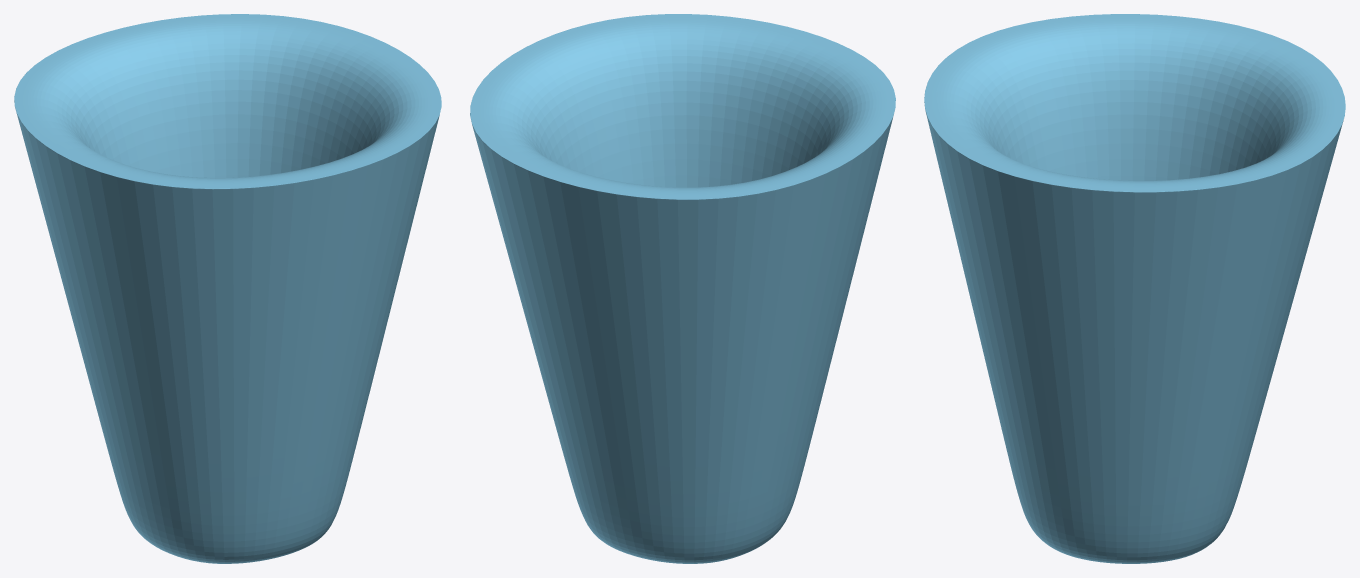
Rendered from assets crema vaso.fbx.
3 views of the same model, side by side, from view 1: azimuth 30°, elevation 25°; view 2: azimuth 150°, elevation 25°; view 3: azimuth 270°, elevation 25° (orthographic).
Parts seen in each view (by area): view 1: Cube; view 2: Cube; view 3: Cube.
Part boxes in pixels (x1,y1,x2,y2): Cube: (14, 14, 441, 563); Cube: (470, 14, 895, 563); Cube: (924, 14, 1345, 563).
Bounding box in the file's own units: 55.51 × 62.58 × 55.5.
